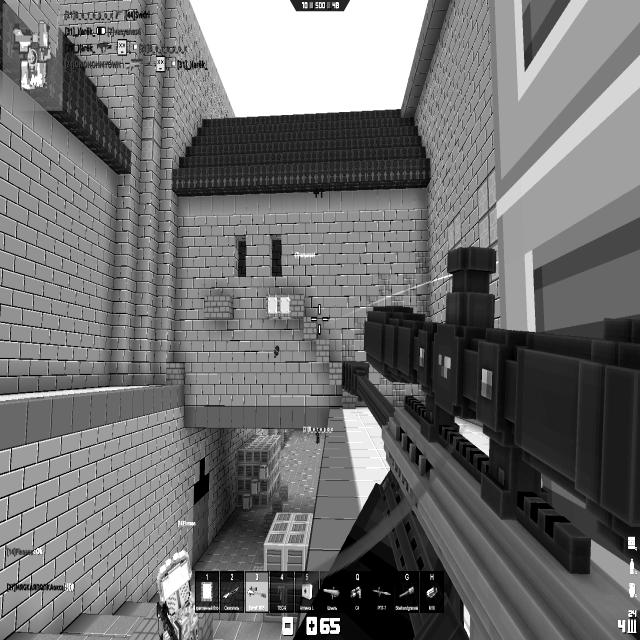Head: (157, 557, 193, 614), (315, 428, 320, 433)
Player: (154, 553, 201, 640), (315, 427, 320, 444)
